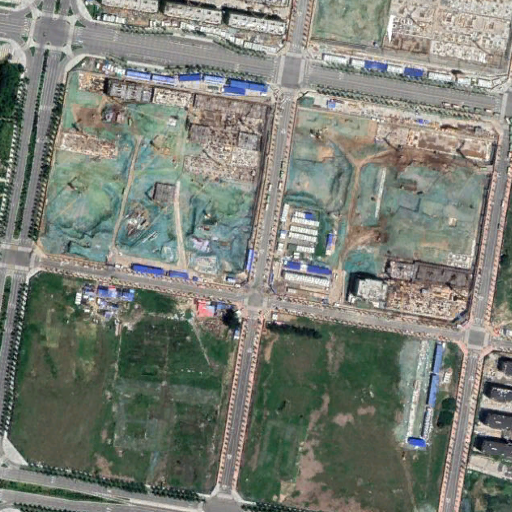cw: (35, 67, 269, 288), (271, 98, 494, 323), (307, 4, 391, 48)
